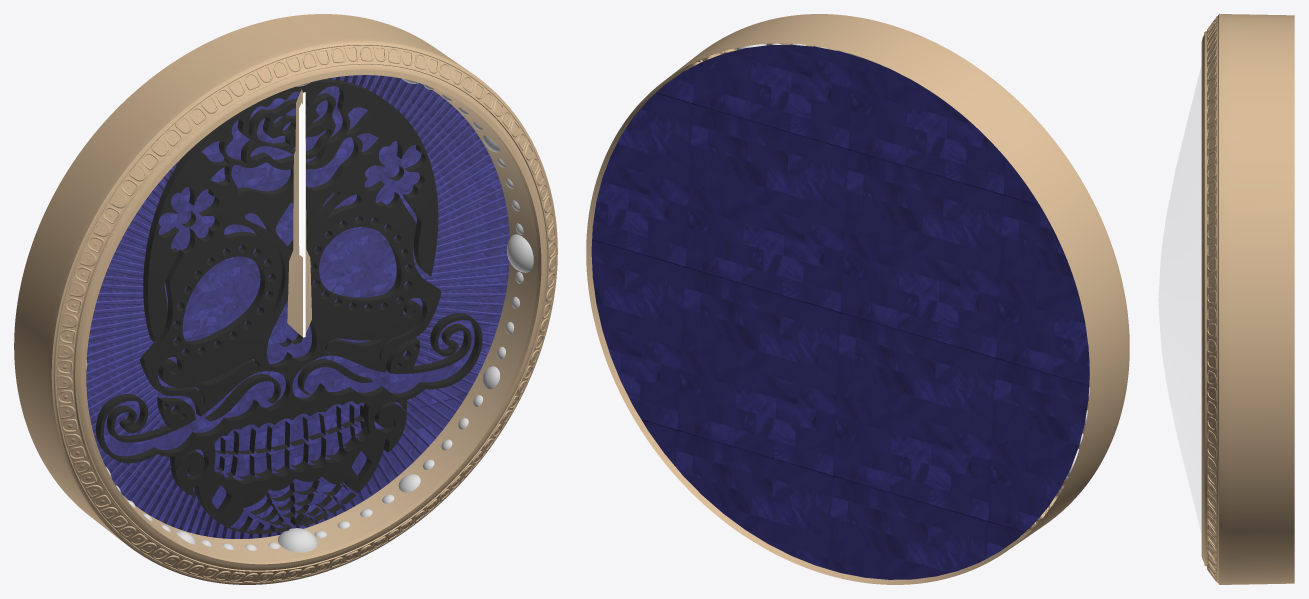
The model's file is watch-03-a.glb.
The picture shows the model from 3 angles, left to right: view 1: azimuth 30°, elevation 25°; view 2: azimuth 150°, elevation 25°; view 3: azimuth 270°, elevation 25°; orthographic projection. The views are drawn at different scales.
Parts seen in each view (by area): view 1: Body, Curve.100, Curve.050, Rotator, Body.001, Design Outside, MinuteHand, 1 Sec Dots, 15 Minute Dots, 5 Minute Dots, Curve.096, SecondHand (+1 smaller); view 2: Body.001, Body; view 3: Body, Glass, Design Outside.
Part boxes in pixels (left/top/right/bottom): Body: left=14, top=14, right=557, bottom=584; Curve.100: left=96, top=79, right=482, bottom=527; Curve.050: left=103, top=86, right=474, bottom=530; Rotator: left=86, top=75, right=509, bottom=538; Body.001: left=86, top=61, right=509, bottom=538; Design Outside: left=56, top=45, right=556, bottom=582; MinuteHand: left=289, top=89, right=311, bottom=337; 1 Sec Dots: left=116, top=84, right=523, bottom=550; 15 Minute Dots: left=86, top=82, right=533, bottom=552; 5 Minute Dots: left=106, top=78, right=499, bottom=544; Curve.096: left=205, top=374, right=280, bottom=421; SecondHand: left=303, top=92, right=305, bottom=337; Body.001: left=591, top=44, right=1089, bottom=579; Body: left=586, top=14, right=1129, bottom=584; Body: left=1201, top=14, right=1294, bottom=584; Glass: left=1159, top=70, right=1200, bottom=528; Design Outside: left=1207, top=18, right=1216, bottom=580.
Size of the model in its own units: 2.18 by 2.18 by 0.5194.
7 materials, 1 textured.
